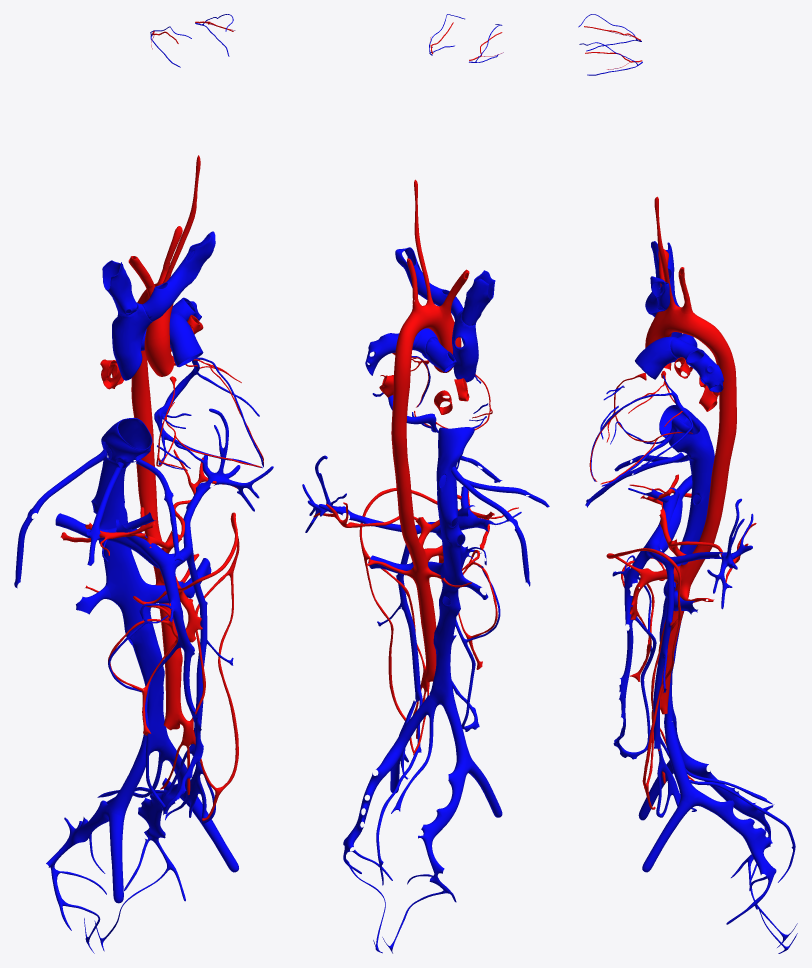
The model's file is vasculature.glb.
The picture shows the model from 3 angles, left to right: view 1: azimuth 30°, elevation 25°; view 2: azimuth 150°, elevation 25°; view 3: azimuth 270°, elevation 25°; orthographic projection. The views are drawn at different scales.
Parts seen in each view (by area): view 1: VH_M_inferior_mesenteric_vein, VH_M_right_colic_artery, VH_M_inferior_ophthalmic_vein_L, VH_M_cystic_artery; view 2: VH_M_inferior_mesenteric_vein, VH_M_right_colic_artery, VH_M_inferior_ophthalmic_vein_L, VH_M_cystic_artery; view 3: VH_M_inferior_mesenteric_vein, VH_M_right_colic_artery, VH_M_inferior_ophthalmic_vein_L, VH_M_cystic_artery.
Boxes of the visible parts, left/top/right/bottom form: VH_M_inferior_mesenteric_vein: left=14, top=231, right=273, bottom=953; VH_M_right_colic_artery: left=85, top=155, right=263, bottom=820; VH_M_inferior_ophthalmic_vein_L: left=150, top=14, right=259, bottom=440; VH_M_cystic_artery: left=60, top=507, right=181, bottom=555; VH_M_inferior_mesenteric_vein: left=302, top=247, right=549, bottom=953; VH_M_right_colic_artery: left=313, top=179, right=497, bottom=755; VH_M_inferior_ophthalmic_vein_L: left=372, top=14, right=503, bottom=432; VH_M_cystic_artery: left=415, top=491, right=518, bottom=550; VH_M_inferior_mesenteric_vein: left=585, top=241, right=797, bottom=953; VH_M_right_colic_artery: left=589, top=196, right=756, bottom=809; VH_M_inferior_ophthalmic_vein_L: left=578, top=14, right=700, bottom=466; VH_M_cystic_artery: left=629, top=474, right=691, bottom=563.
Bounding box in the file's own units: 0.2361 × 0.8718 × 0.1874.
